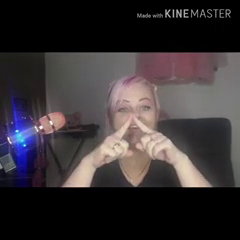E: (99, 110, 177, 171)
